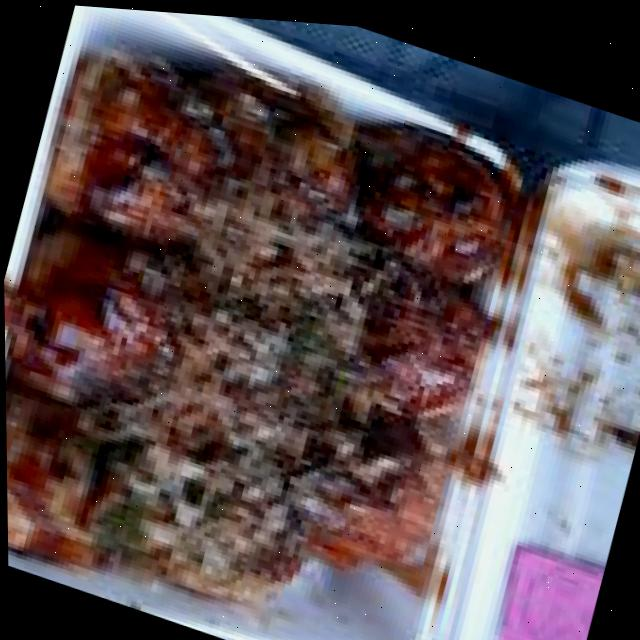炸货点心: (0, 0, 617, 640)
